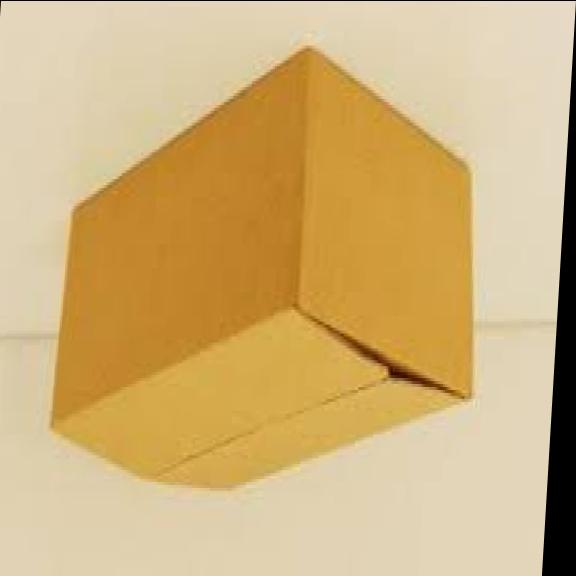Kertas: (51, 51, 472, 486)
